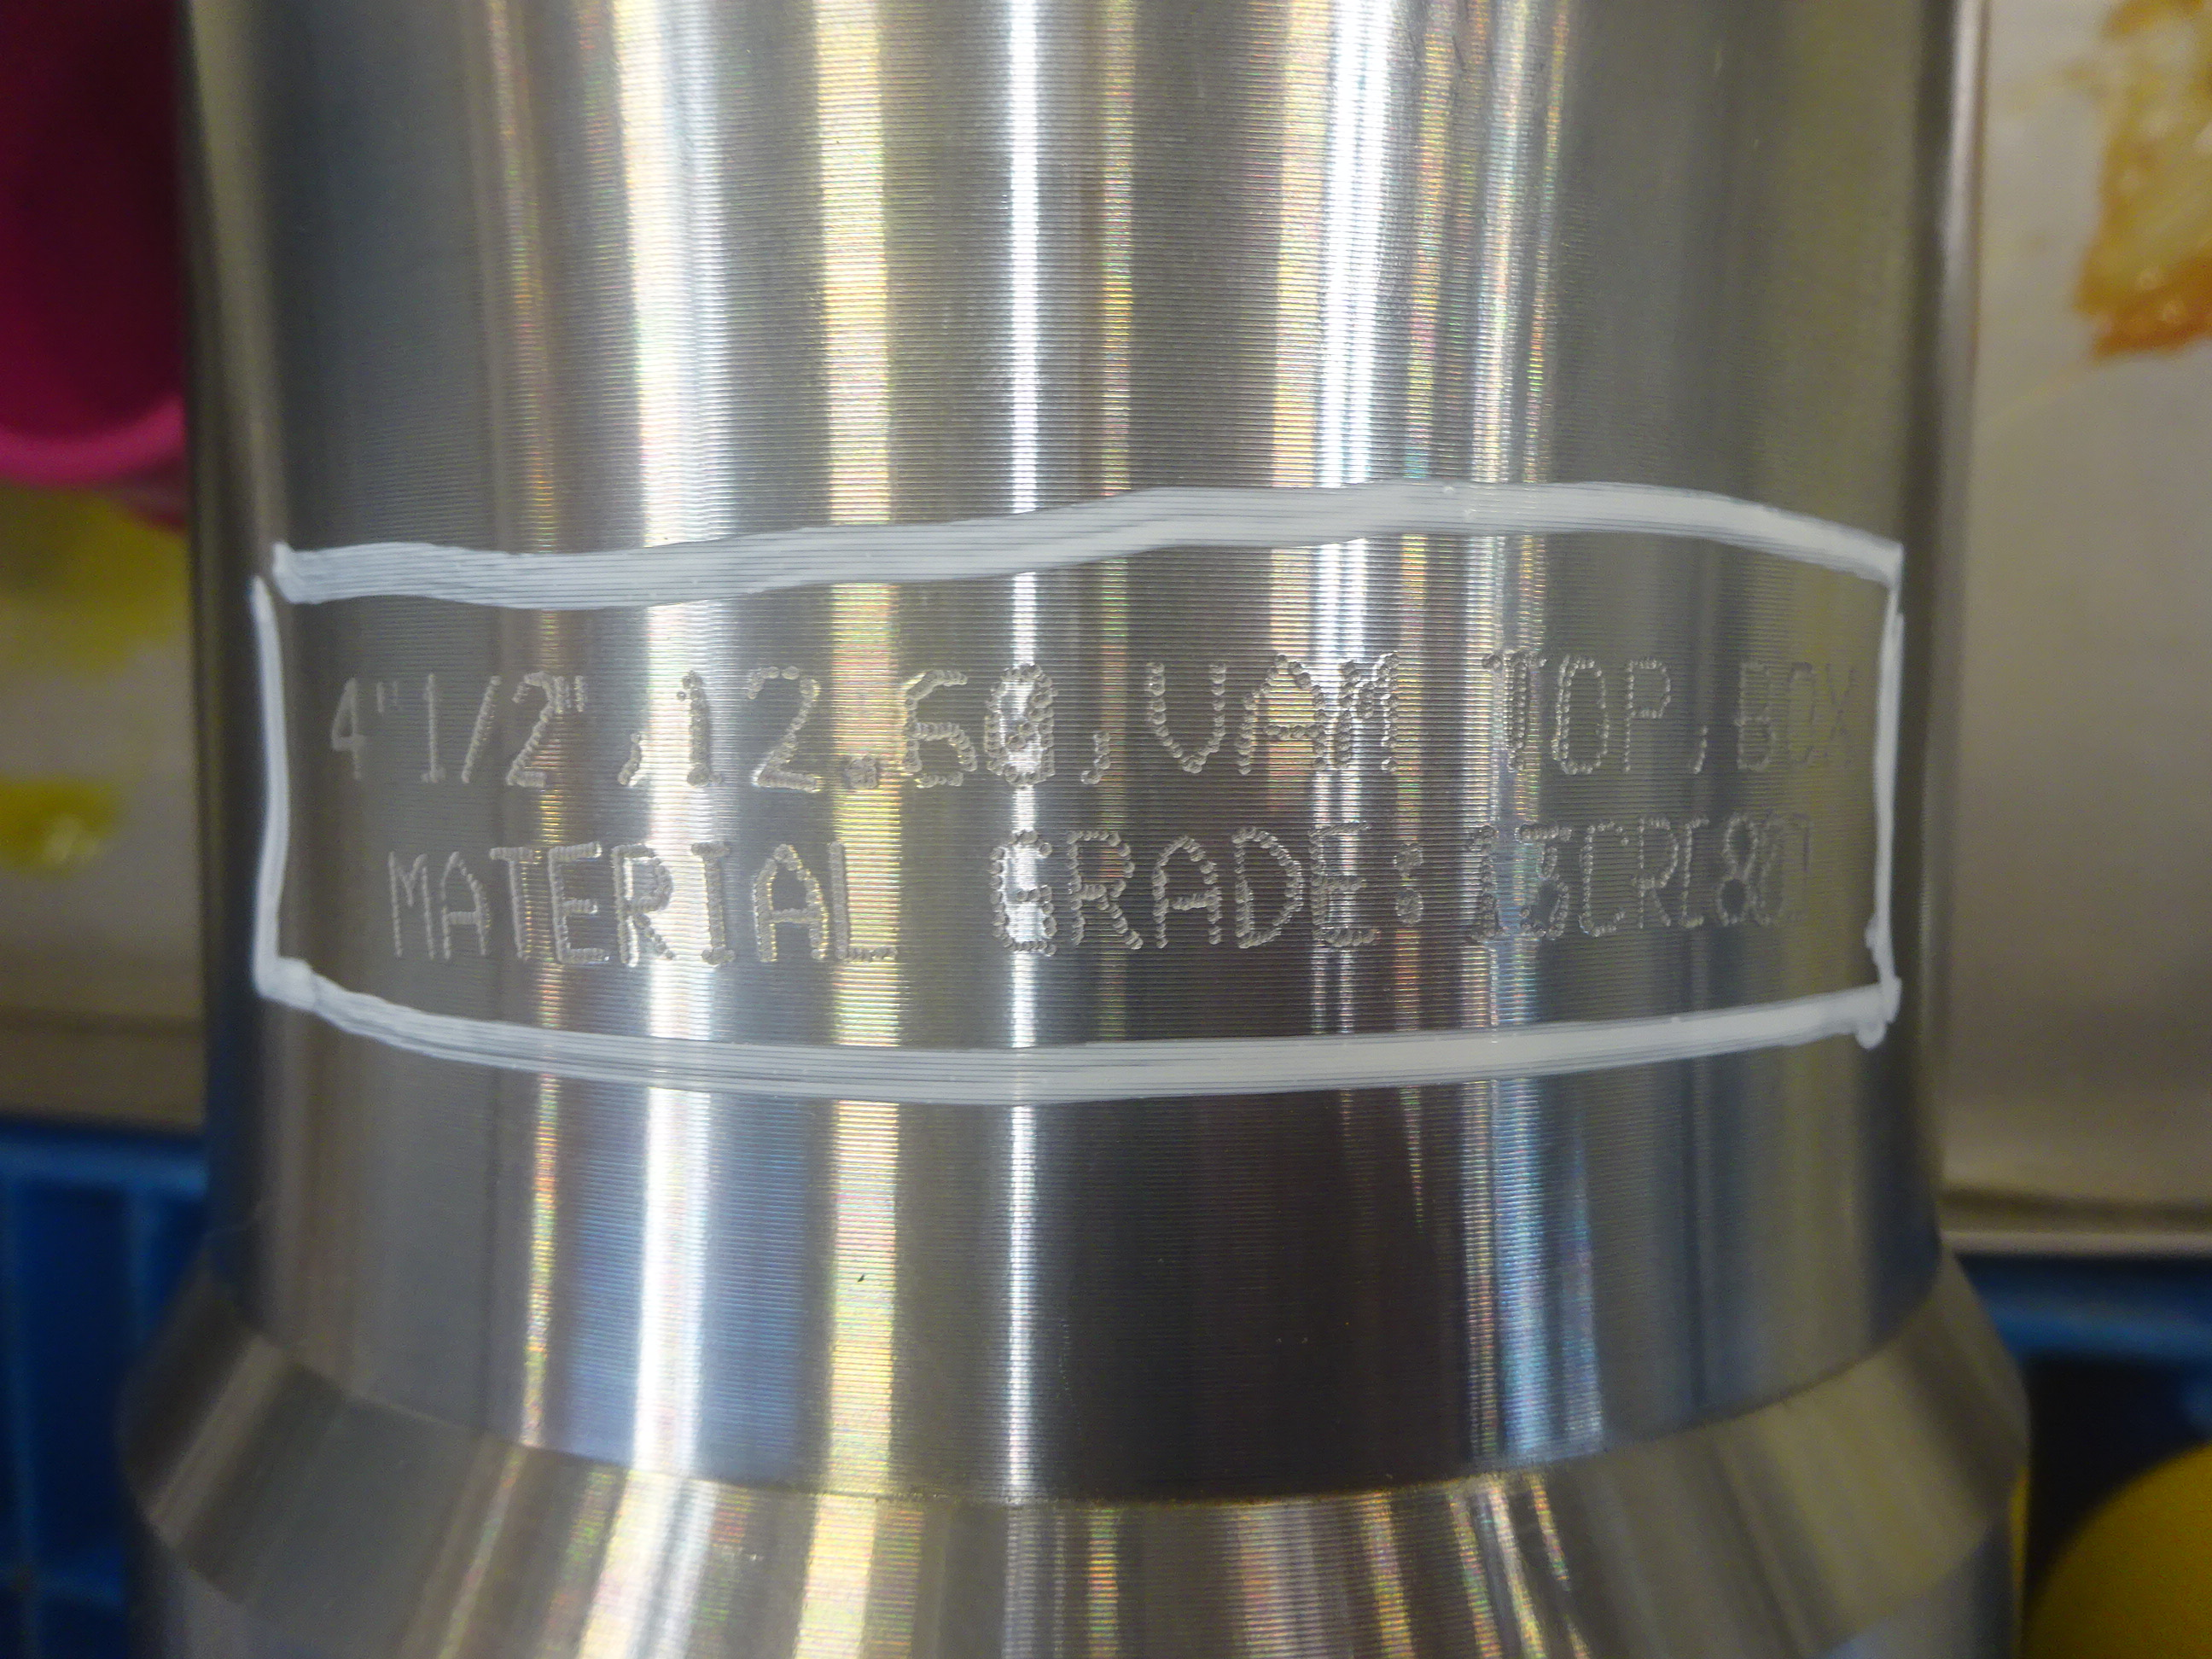character: (733, 655, 840, 796), (1231, 640, 1331, 786), (1294, 810, 1390, 953), (887, 659, 986, 793), (1141, 819, 1231, 964), (744, 828, 833, 974), (1223, 809, 1305, 962), (1129, 655, 1231, 775), (979, 655, 1066, 795), (981, 817, 1064, 962), (1320, 640, 1409, 774), (1062, 819, 1150, 955), (824, 829, 904, 971), (604, 829, 681, 976), (540, 833, 615, 972), (1508, 823, 1587, 951), (655, 664, 733, 789), (481, 835, 550, 971), (1545, 648, 1615, 781), (1716, 652, 1787, 781), (493, 655, 561, 789), (1625, 805, 1688, 948), (1489, 636, 1554, 774), (374, 842, 444, 969), (1575, 805, 1635, 948), (320, 669, 388, 796), (683, 829, 740, 976), (1815, 641, 1874, 782), (1456, 805, 1510, 953), (1615, 657, 1676, 781), (449, 664, 509, 791), (404, 664, 460, 788), (437, 838, 489, 969), (1778, 641, 1824, 781), (1716, 809, 1763, 936), (1676, 810, 1721, 938)
